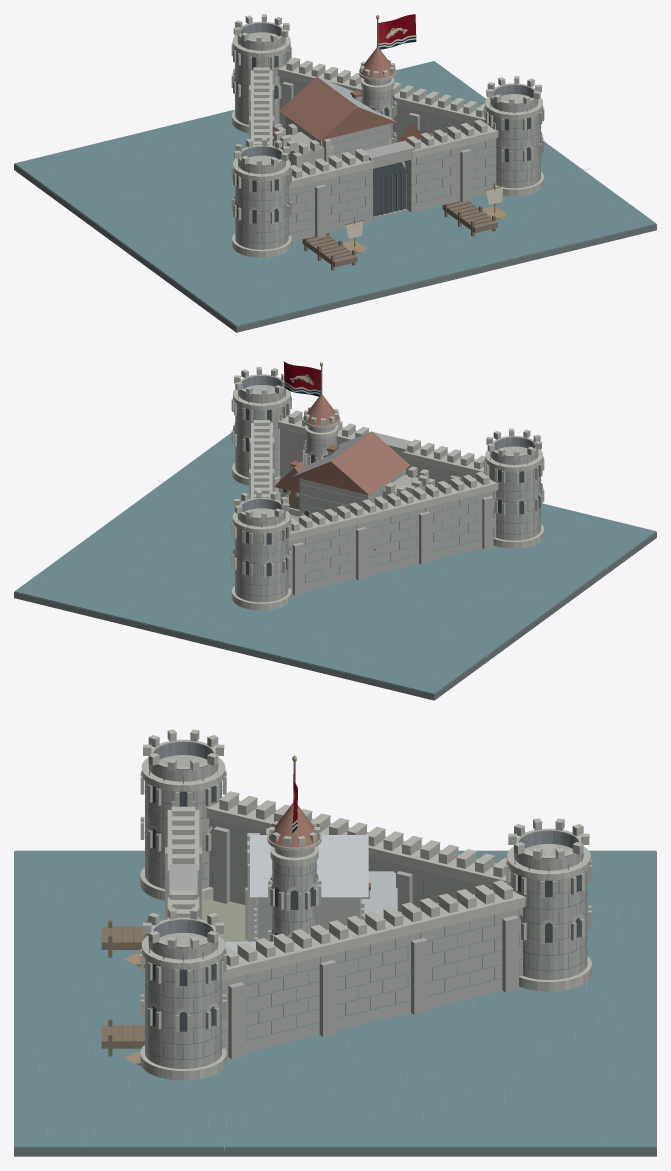
The model's file is riverrun.glb.
3 renders of one model, top to bottom at view 1: azimuth 30°, elevation 25°; view 2: azimuth 150°, elevation 25°; view 3: azimuth 270°, elevation 25°, orthographic. The views are drawn at different scales.
Parts seen in each view (by area): view 1: ریورران; view 2: ریورران; view 3: ریورران.
Boxes of the visible parts, <box> form: ریورران: <box>14,14,656,332</box>; ریورران: <box>14,361,656,700</box>; ریورران: <box>14,729,656,1156</box>.
Bounding box in the file's own units: 12.17 × 5.15 × 11.
2 materials, 1 textured.
